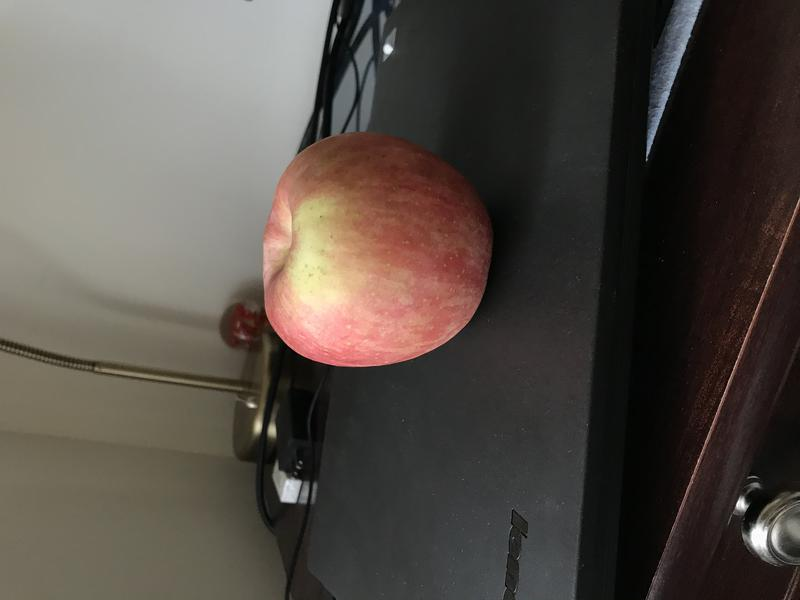red_apple: (241, 127, 501, 378)
